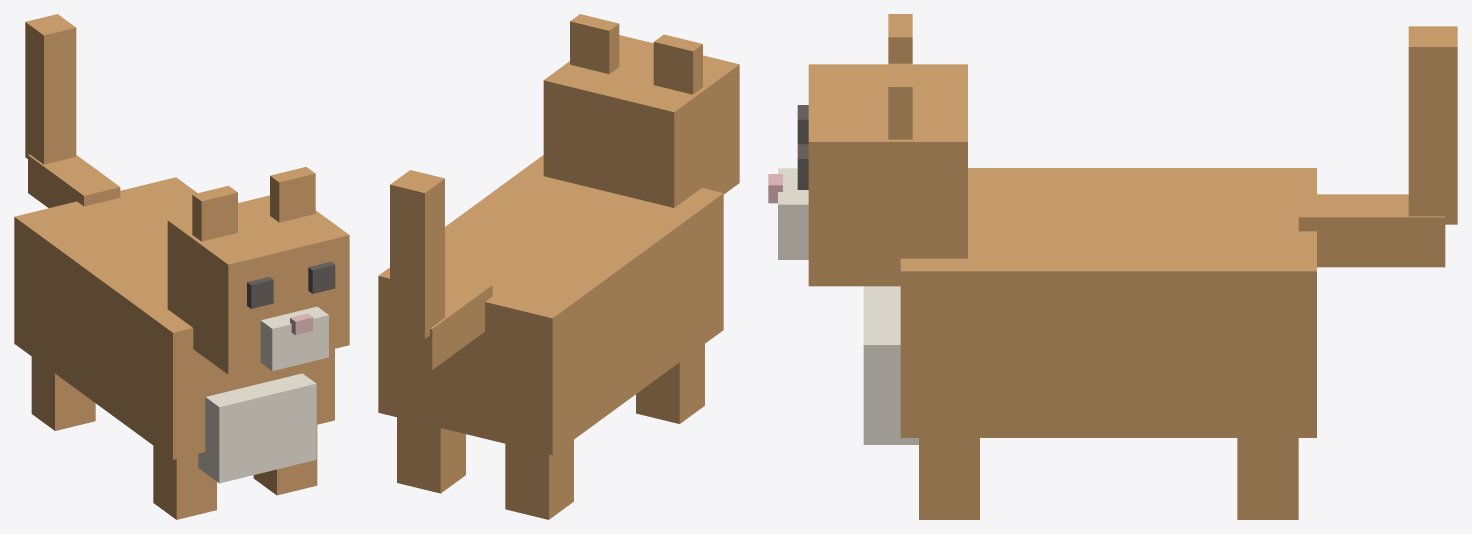
File: jeoffry.glb
3 views of the same model, side by side, from view 1: azimuth 30°, elevation 25°; view 2: azimuth 150°, elevation 25°; view 3: azimuth 270°, elevation 25° (orthographic). The views are drawn at different scales.
Parts seen in each view (by area): view 1: Jeoffry; view 2: Jeoffry; view 3: Jeoffry.
Boxes of the visible parts, <box> form: Jeoffry: <box>14,14,349,519</box>; Jeoffry: <box>378,14,739,519</box>; Jeoffry: <box>768,14,1457,519</box>.
Size of the model in its own units: 0.2 by 0.395 by 0.563.
